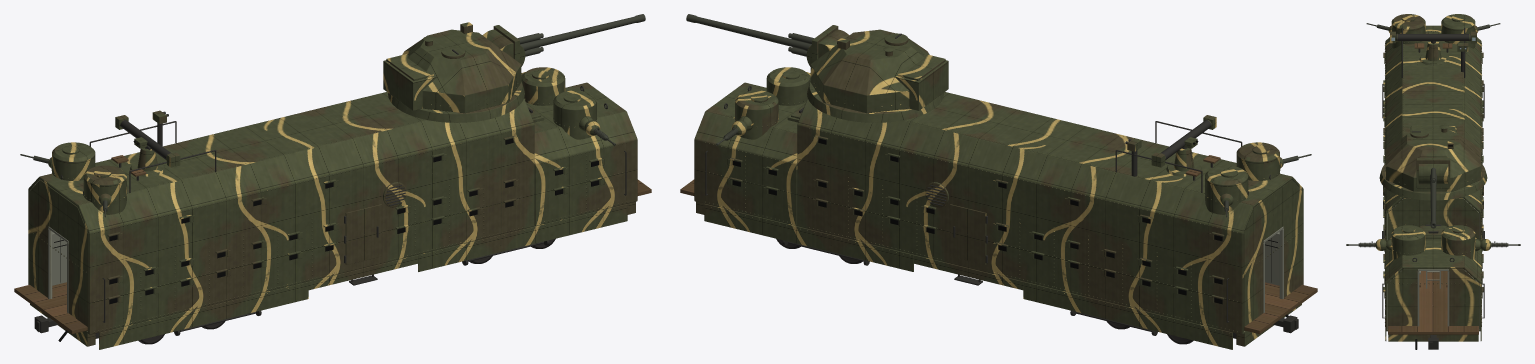
The model's file is gun_car_b.glb.
The picture shows the model from 3 angles, left to right: view 1: azimuth 30°, elevation 25°; view 2: azimuth 150°, elevation 25°; view 3: azimuth 270°, elevation 25°; orthographic projection. The views are drawn at different scales.
Parts seen in each view (by area): view 1: HullHighShell, TurretBody, HullFrontShell, SkirtsAndJacks, HullHighInterior, MgCupolas, HullHighDetails, RangefinderMount, HullHighRivets, Barrel, RF_Tube, Underframe (+2 smaller); view 2: HullHighShell, TurretBody, HullFrontShell, SkirtsAndJacks, HullHighInterior, MgCupolas, HullHighDetails, RangefinderMount, HullHighRivets, Barrel, RF_Tube, Underframe (+2 smaller); view 3: HullHighShell, TurretBody, HullFrontInterior, MgCupolas, HullHighInterior, HullFrontShell, RangefinderMount, Underframe, RF_Tube, HullHighDetails, HullFrontDetails, Mantlet (+5 smaller).
Boxes of the visible parts, box(x1,y1,x2,y2) form: HullHighShell: box(28, 92, 534, 334); TurretBody: box(383, 22, 524, 122); HullFrontShell: box(526, 82, 637, 225); SkirtsAndJacks: box(99, 204, 627, 349); HullHighInterior: box(14, 180, 88, 334); MgCupolas: box(20, 67, 597, 217); HullHighDetails: box(61, 135, 518, 322); RangefinderMount: box(89, 110, 216, 192); HullHighRivets: box(30, 92, 531, 332); Barrel: box(517, 14, 645, 56); RF_Tube: box(115, 115, 180, 167); Underframe: box(30, 201, 635, 346); HullHighShell: box(797, 92, 1303, 334); TurretBody: box(807, 25, 948, 122); HullFrontShell: box(694, 82, 805, 225); SkirtsAndJacks: box(704, 204, 1232, 349); HullHighInterior: box(1243, 180, 1317, 334); MgCupolas: box(734, 67, 1311, 217); HullHighDetails: box(813, 135, 1270, 322); RangefinderMount: box(1115, 121, 1242, 192); HullHighRivets: box(803, 92, 1301, 332); Barrel: box(686, 14, 814, 56); RF_Tube: box(1151, 115, 1216, 167); Underframe: box(696, 201, 1301, 346); HullHighShell: box(1385, 25, 1481, 240); TurretBody: box(1379, 124, 1487, 200); HullFrontInterior: box(1387, 268, 1479, 334); MgCupolas: box(1366, 14, 1500, 259); HullHighInterior: box(1387, 198, 1479, 292); HullFrontShell: box(1385, 238, 1481, 331); RangefinderMount: box(1401, 27, 1468, 77); Underframe: box(1388, 334, 1478, 349); RF_Tube: box(1390, 31, 1476, 43); HullHighDetails: box(1382, 52, 1484, 257); HullFrontDetails: box(1382, 224, 1484, 318); Mantlet: box(1418, 157, 1448, 184).
Size of the model in its own units: 17.72 by 6.1 by 5.6.
Materials: 15 (3 with a texture image).
